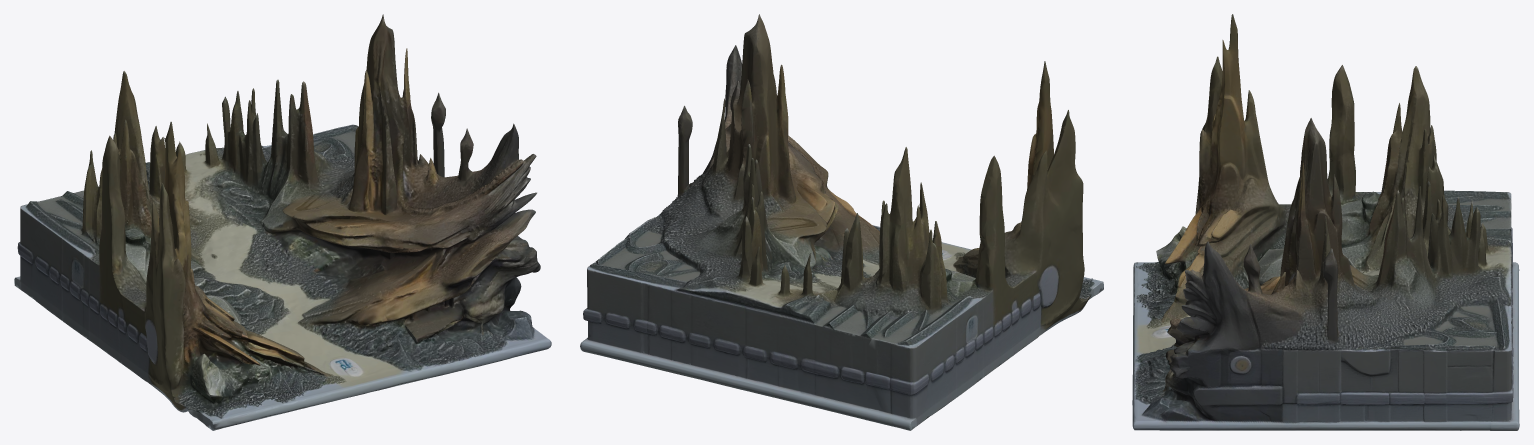
The model's file is Hemver6-v2.glb.
3 views of the same model, side by side, from view 1: azimuth 30°, elevation 25°; view 2: azimuth 150°, elevation 25°; view 3: azimuth 270°, elevation 25° (orthographic). The views are drawn at different scales.
Parts seen in each view (by area): view 1: tripo_node_5563d588-bf74-4f7e-a652-4b74b3ce1689; view 2: tripo_node_5563d588-bf74-4f7e-a652-4b74b3ce1689; view 3: tripo_node_5563d588-bf74-4f7e-a652-4b74b3ce1689.
Boxes of the visible parts, x1,y1,x2,y2 form: tripo_node_5563d588-bf74-4f7e-a652-4b74b3ce1689: (14,14,551,430); tripo_node_5563d588-bf74-4f7e-a652-4b74b3ce1689: (580,14,1103,430); tripo_node_5563d588-bf74-4f7e-a652-4b74b3ce1689: (1132,14,1519,430).
Size of the model in its own units: 0.9918 by 0.7422 by 0.9362.
1 material, 1 textured.
